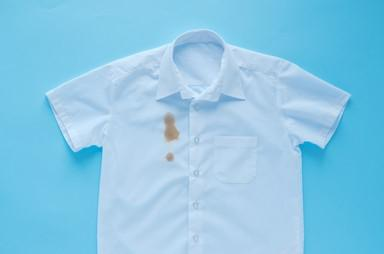gun: (160, 109, 180, 165)
